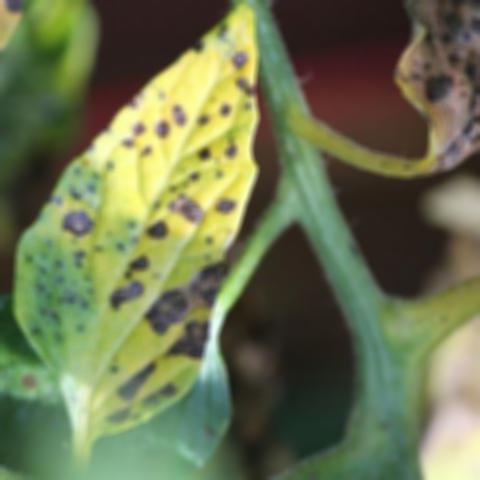Tomato Septoria leaf spot: (10, 2, 278, 435)
